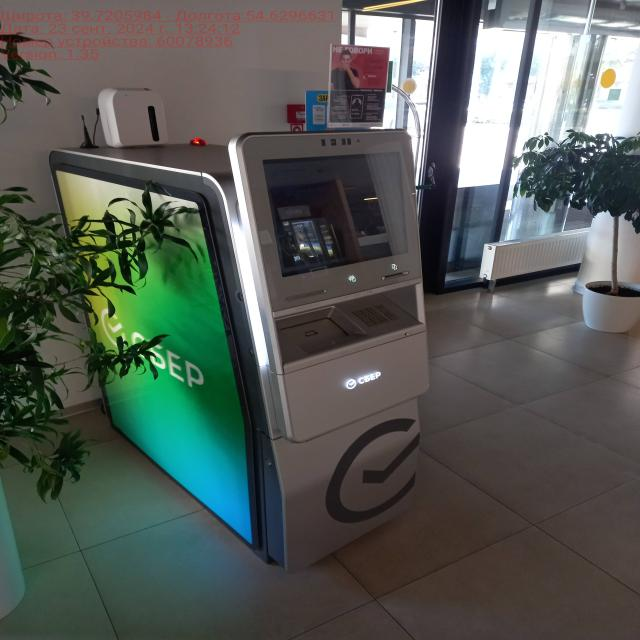bank: (50, 126, 437, 566)
